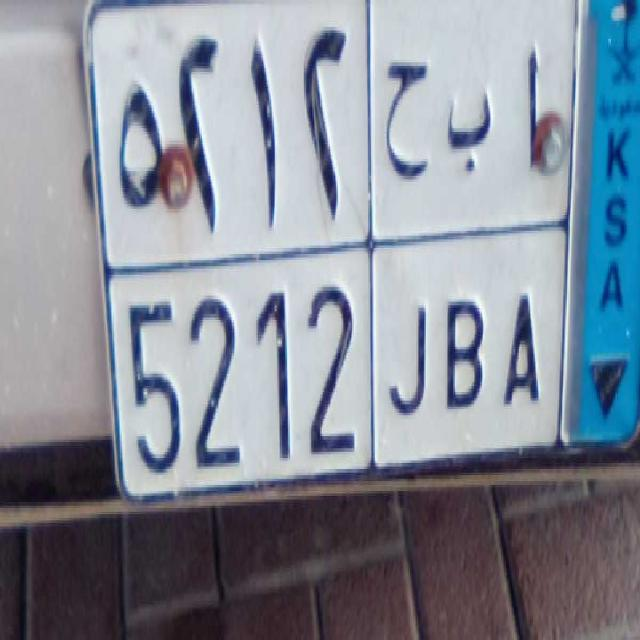license_plate: (118, 250, 558, 482)
